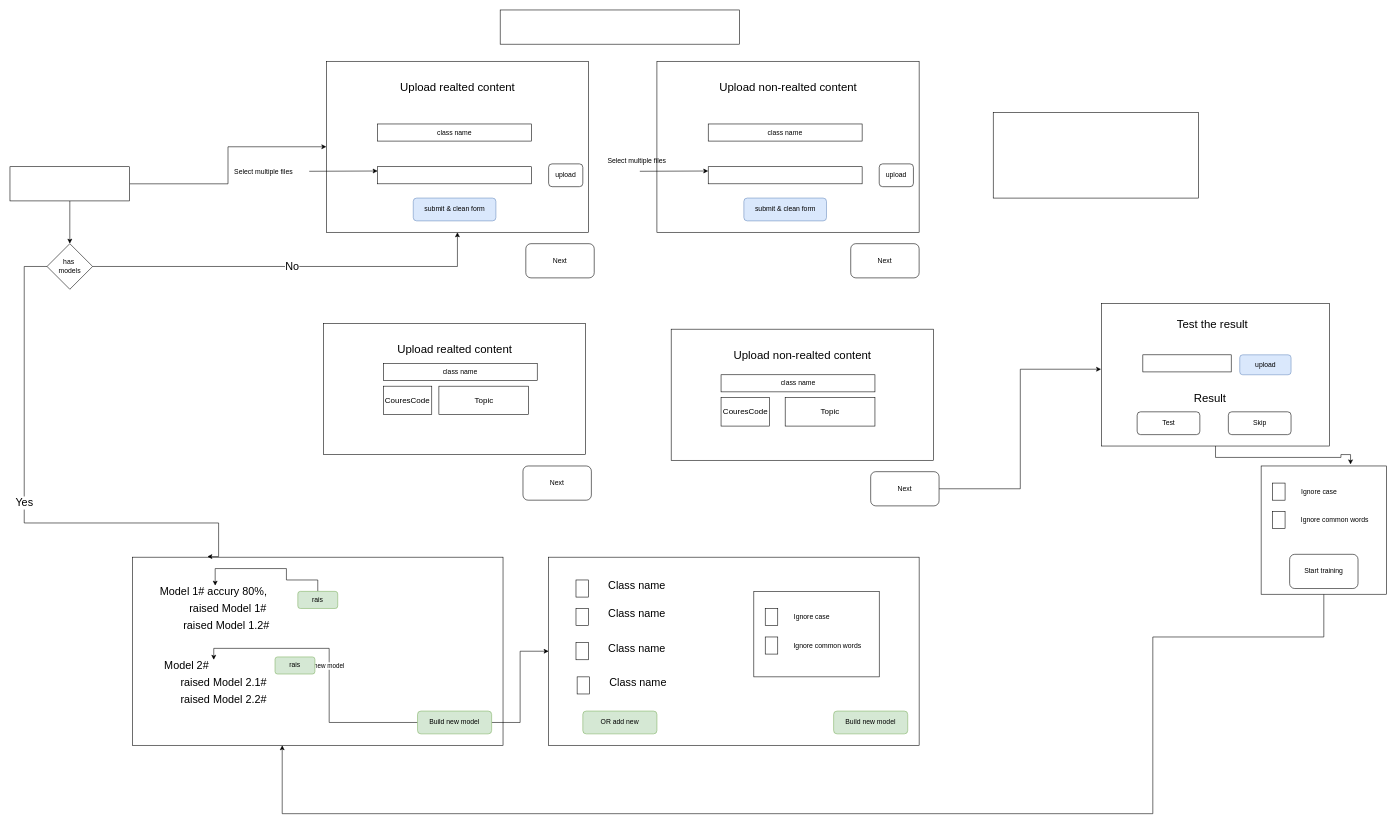
This 1397x828 diagram has some shape labels left out. Here are the shapes that lost their labels. From the top down, the box of each, then its label:
(500, 9, 740, 44): For each course
(993, 112, 1198, 198): 1 related 1 non related at least
(9, 166, 130, 201): Train model
